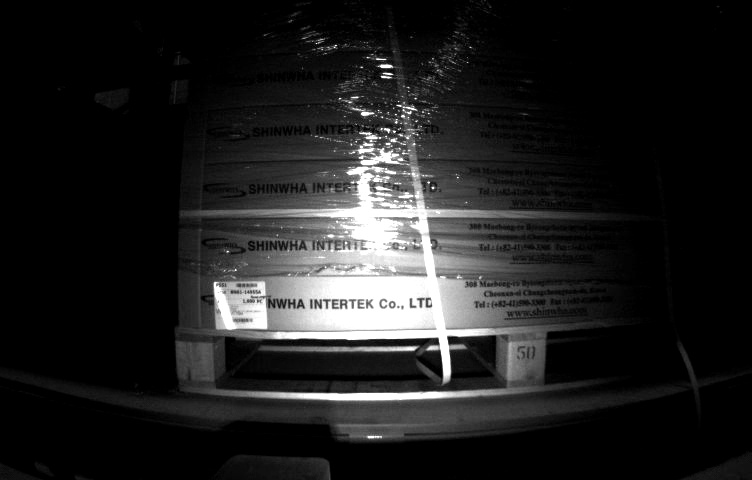True Barcode: (210, 280, 266, 330)
